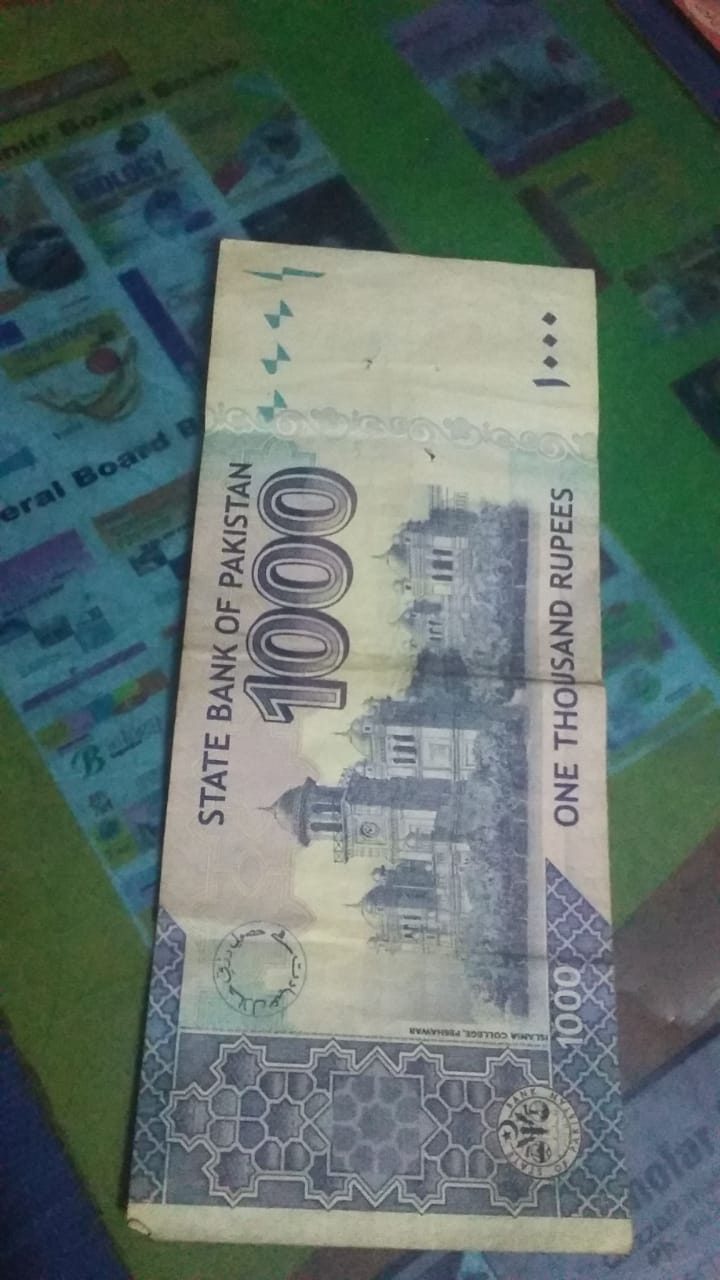1000 rupee: (107, 212, 679, 1280)
